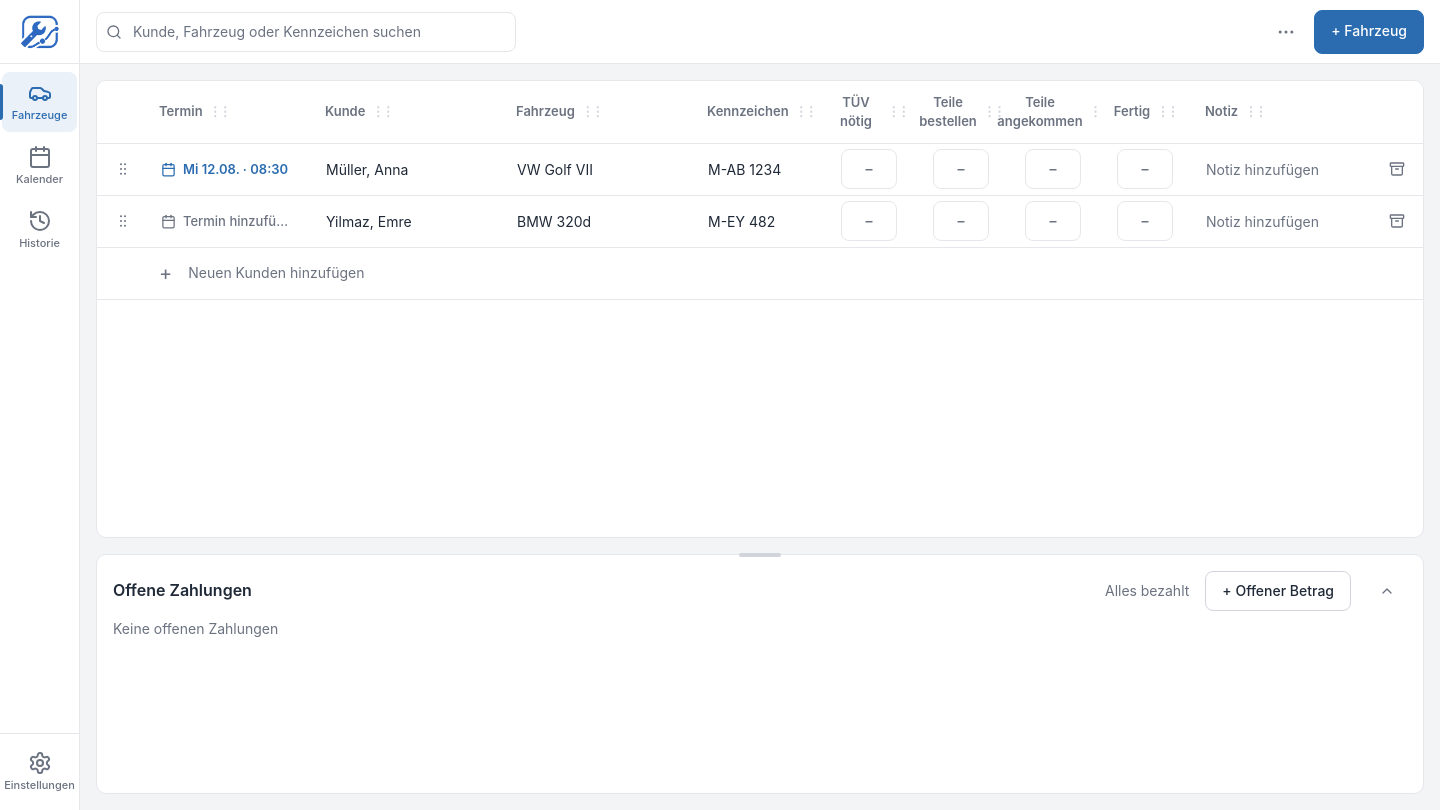
Test case: Fahrzeugtermine › öffnet die Terminauswahl und speichert Datum und Uhrzeit automatisch
Expected: the 1st field showing "Müller, Anna" is shown, left=317, top=149, right=496, bottom=189
Click the button with aria-label "Termin für Yilmaz, Emre" at (228, 221), box left=151, top=201, right=305, bottom=241
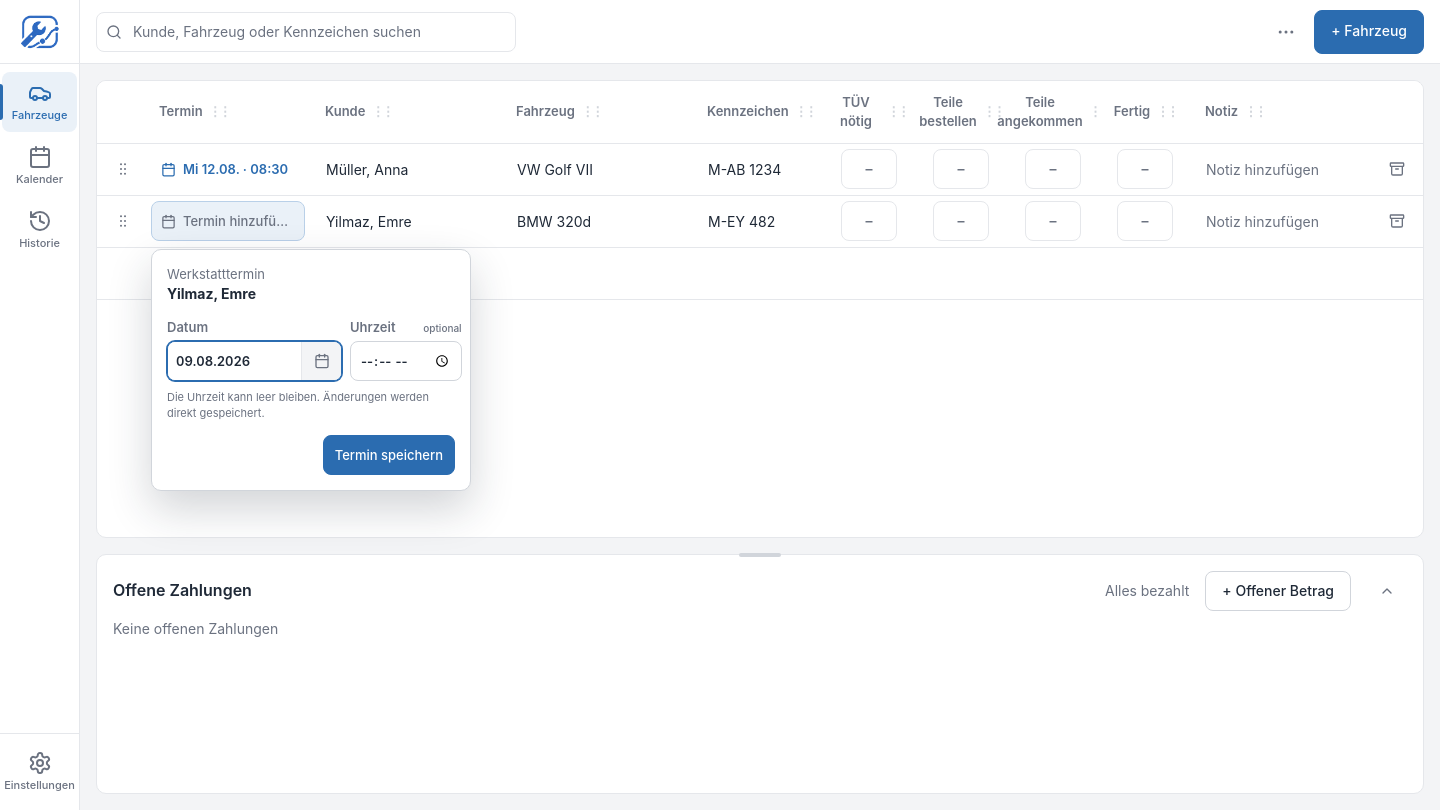
Replace the text in the field labelled "Datum" with "13.08.2026" at (234, 361), box left=168, top=342, right=301, bottom=380
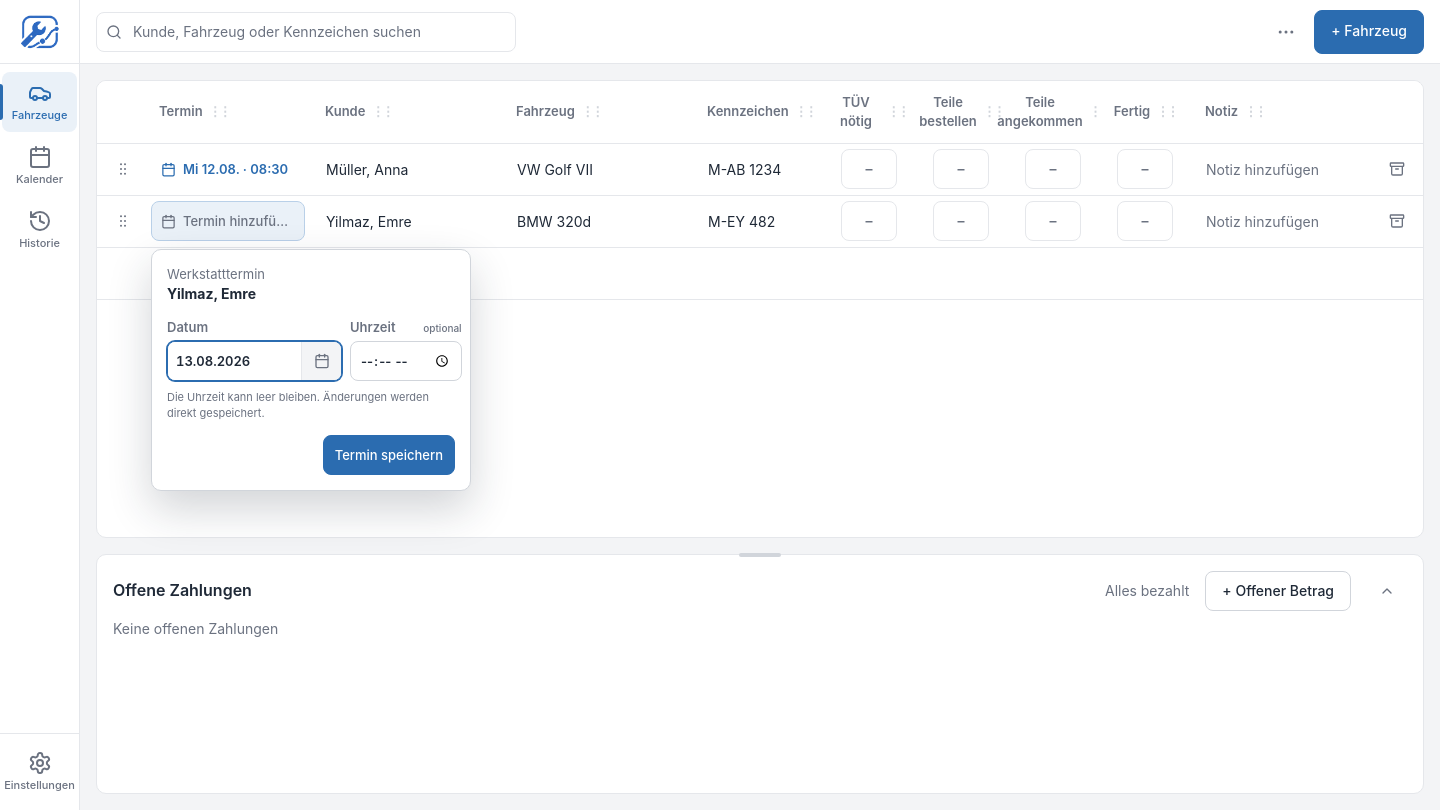
Type "10:15" into the time field labelled "Uhrzeit" at (406, 361), box left=350, top=341, right=462, bottom=381
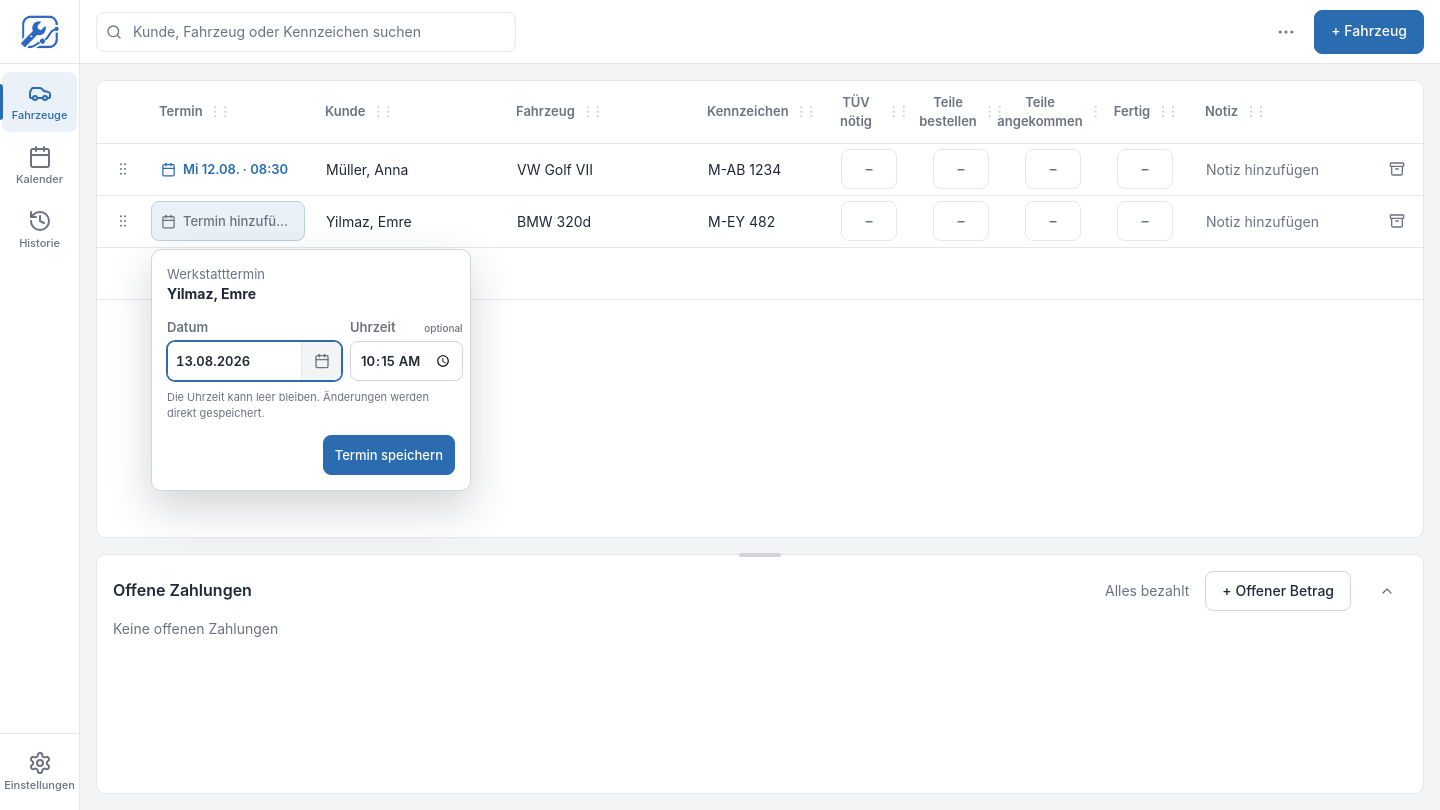
Click the button "Termin speichern" at (389, 455), box left=323, top=435, right=455, bottom=475
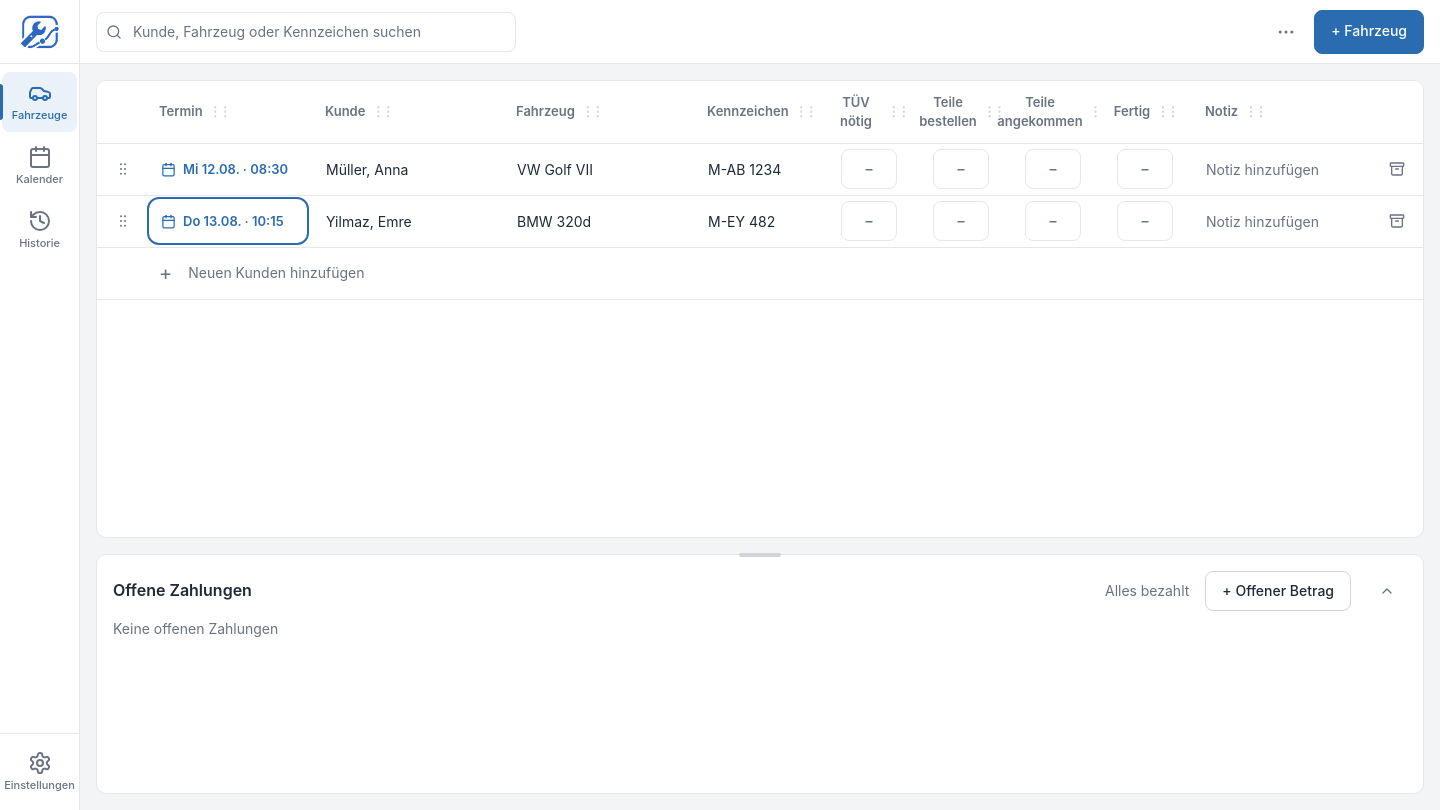
Expected: the button with aria-label "Termin für Yilmaz, Emre" reads "Do 13.08. · 10:15", left=151, top=201, right=305, bottom=241
